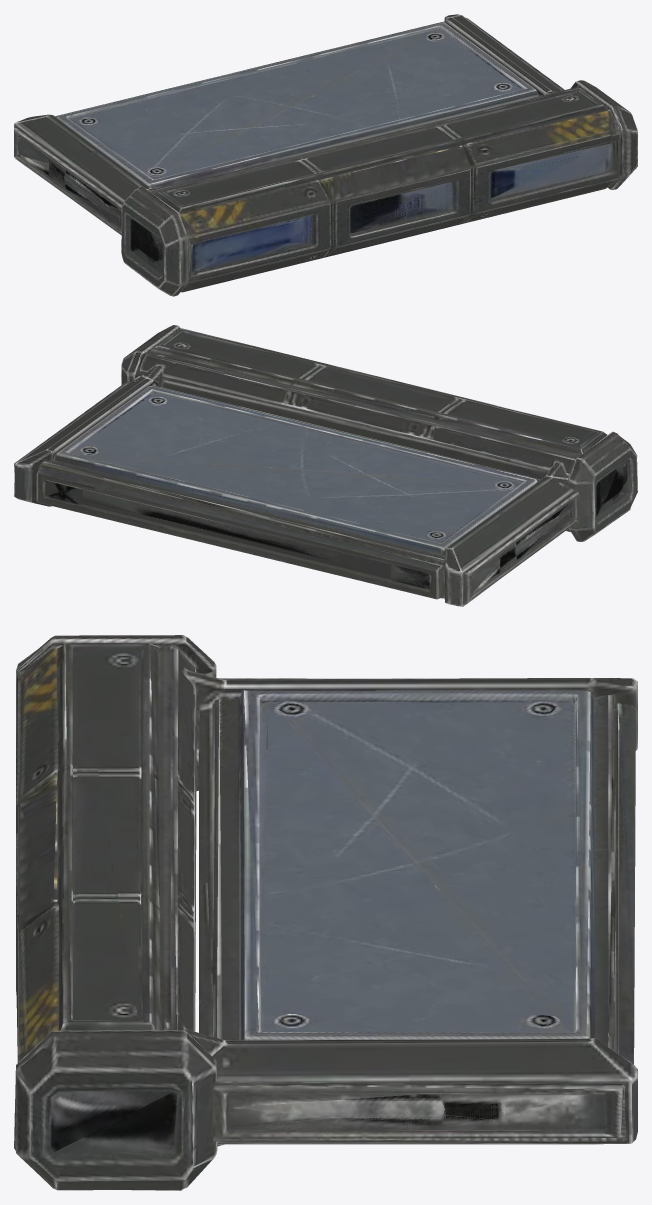
File: half_floor.glb
3 views of the same model, one above another, from view 1: azimuth 30°, elevation 25°; view 2: azimuth 150°, elevation 25°; view 3: azimuth 270°, elevation 25° (orthographic). The views are drawn at different scales.
Visible parts, largest first — view 1: mesh_node; view 2: mesh_node; view 3: mesh_node.
Part boxes in pixels (x1,y1,x2,y2): mesh_node: [14, 14, 637, 296]; mesh_node: [14, 325, 637, 606]; mesh_node: [14, 635, 637, 1190].
Bounding box in the file's own units: 1 × 0.1733 × 0.6191.
Materials: 1 (1 with a texture image).
